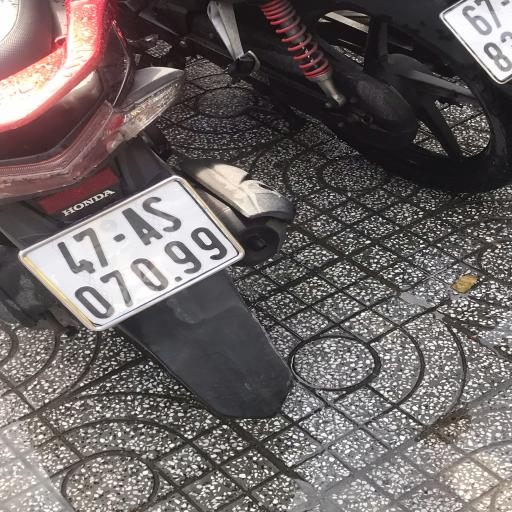0: (66, 282, 120, 326), (128, 256, 180, 300)
4: (48, 234, 98, 279)
7: (90, 270, 140, 310), (75, 226, 114, 273)
9: (155, 236, 206, 282), (185, 224, 238, 267)
A: (114, 201, 164, 251)
S: (144, 192, 185, 238)
